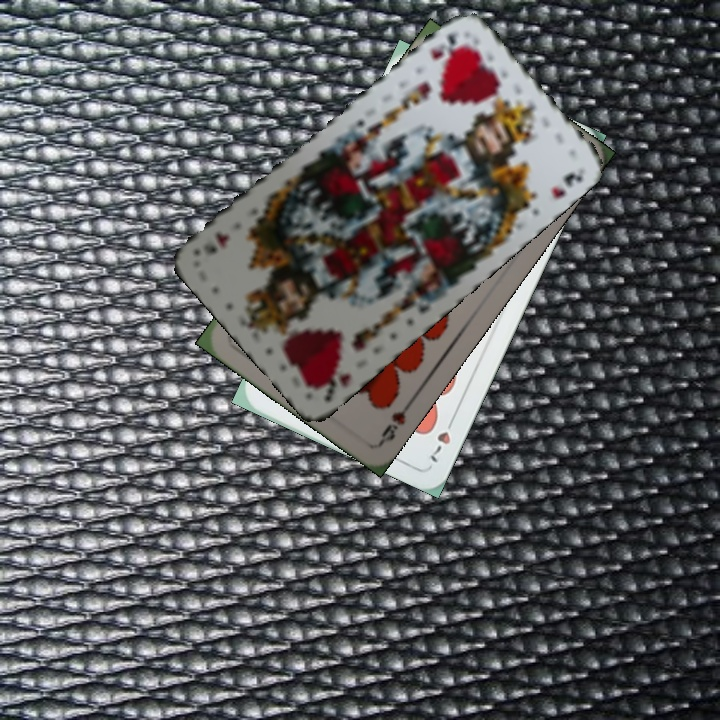H7: (425, 411, 458, 465)
H9: (376, 394, 417, 446)
HK: (310, 361, 353, 405), (426, 27, 462, 64)
